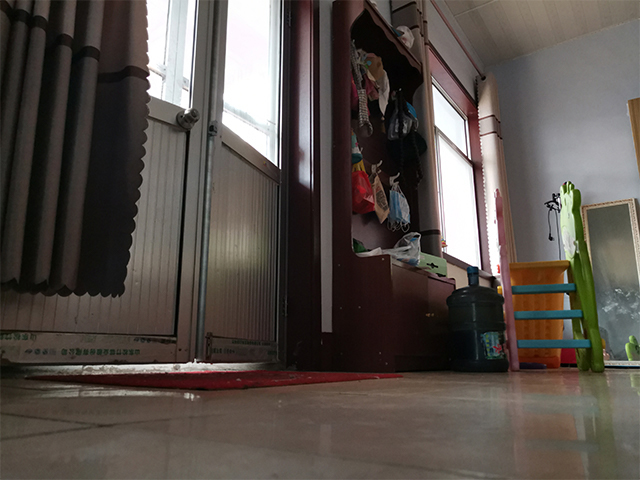cabinet: (329, 1, 469, 374)
carpet: (22, 367, 405, 392)
curtain: (1, 1, 147, 301)
